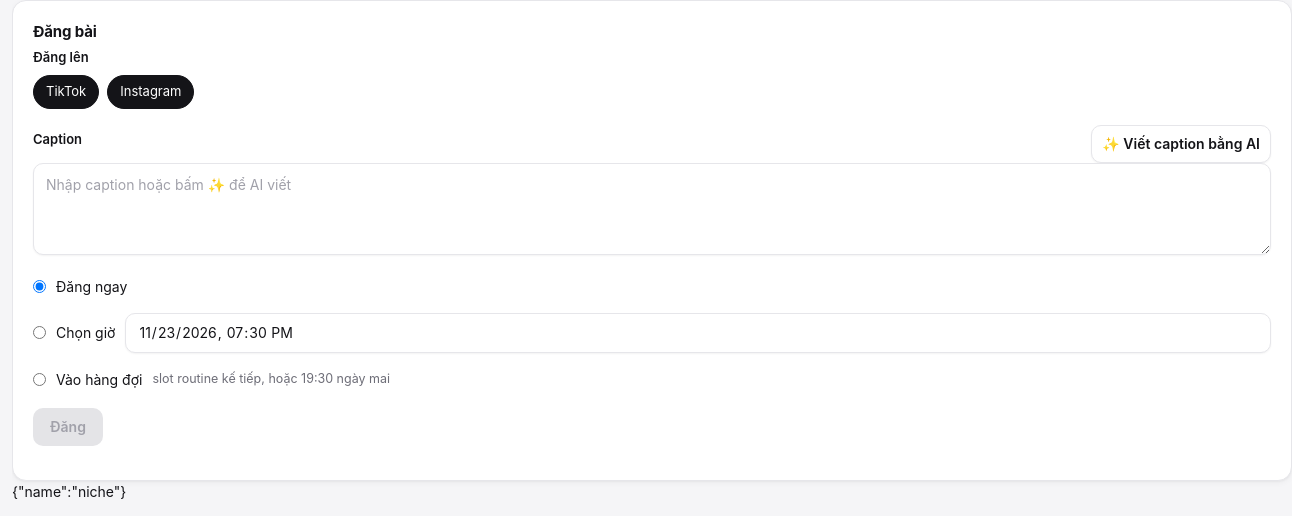
deselecting every channel disables the publish button
Click the button "✨ Viết caption bằng AI" at [1181, 144], box [1091,124,1271,162]
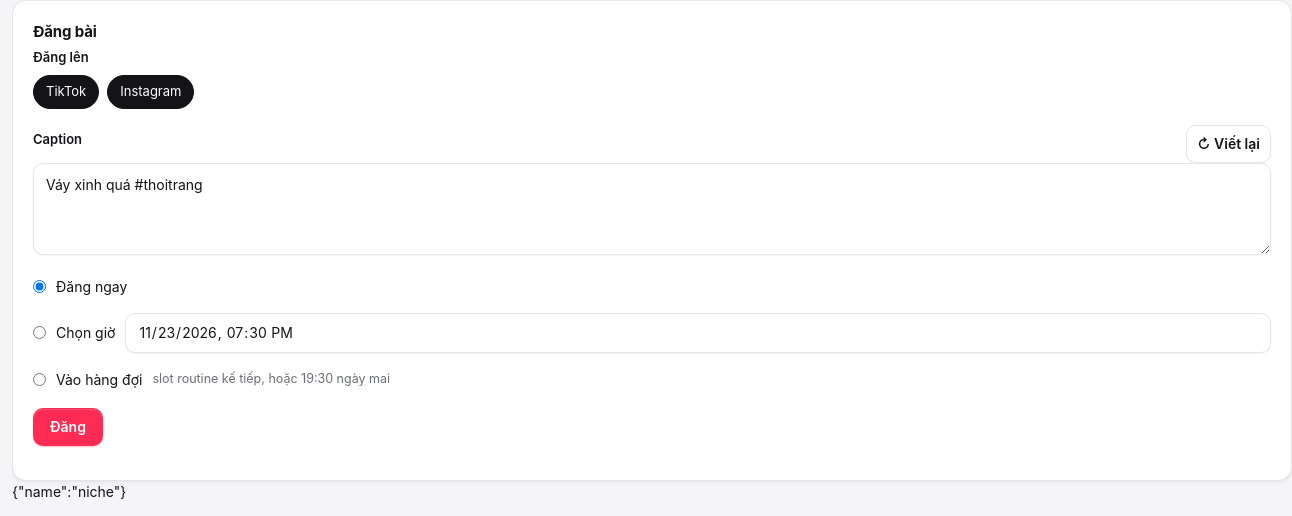
Expected: the text box showing "Váy xinh quá #thoitrang" is shown, [33,162,1271,254]
Click the checkbox "TikTok" at [66, 92], box [33,75,99,108]
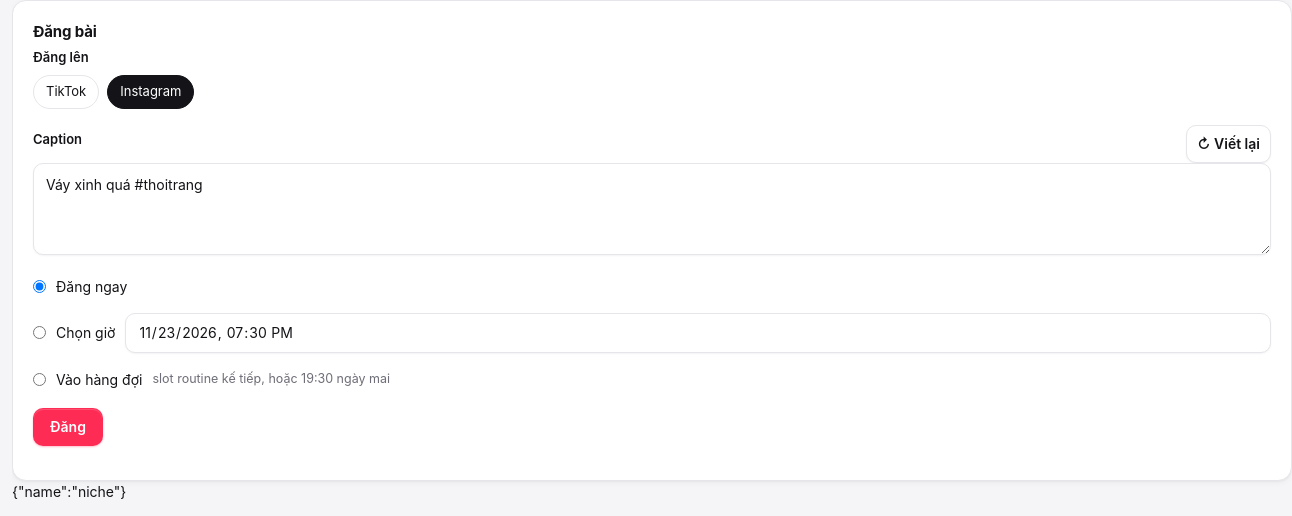
Click the checkbox "Instagram" at [151, 92], box [107,75,194,108]
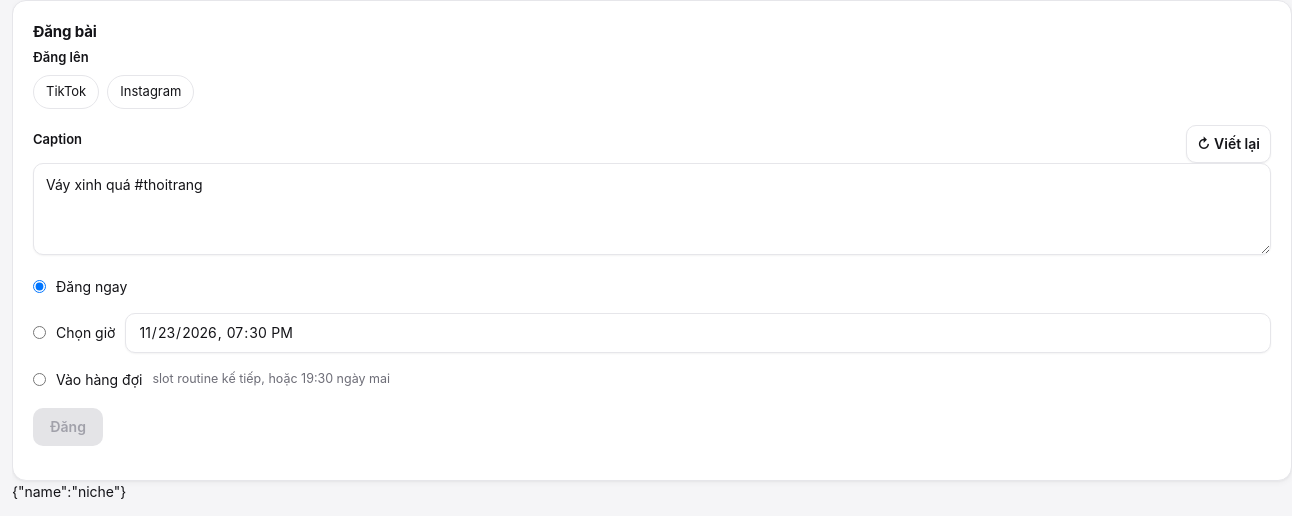
Expected: the button "Đăng" is disabled, [33,408,103,446]
